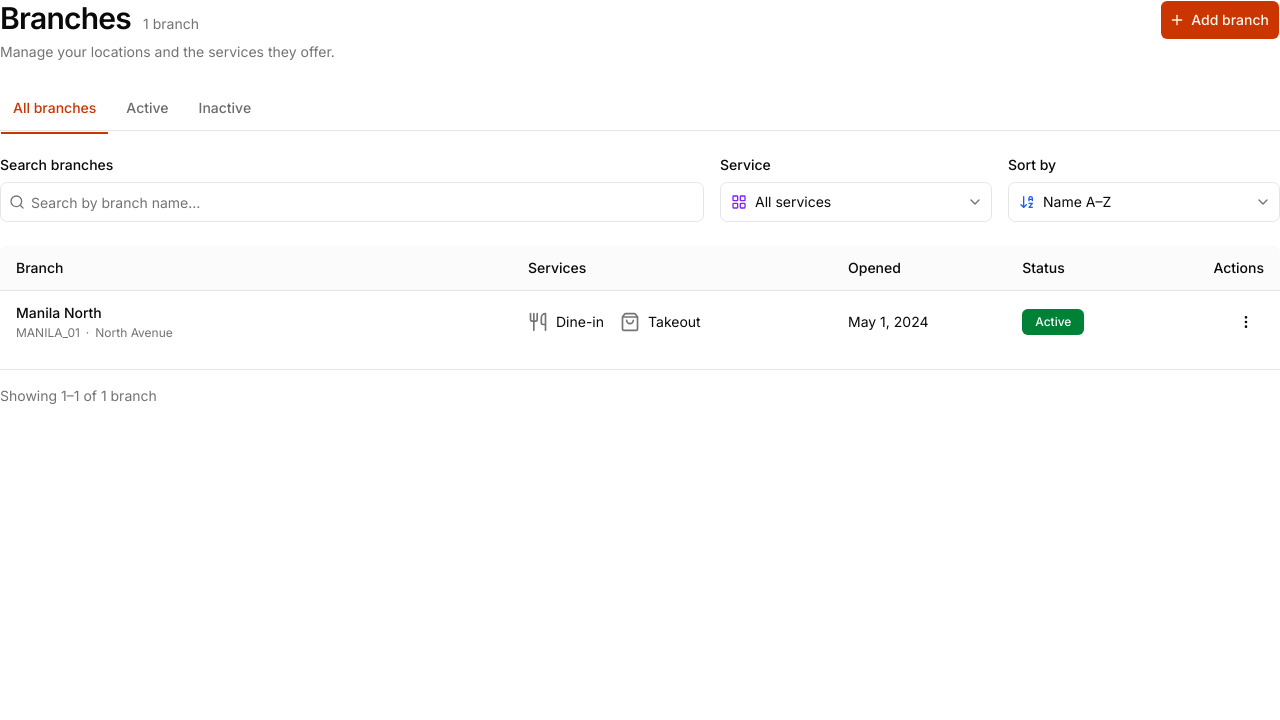
Test: branch management › shows a compact table and opens editing only from the row action
Expected: the column heading "Branch" is shown, [0,246,512,290]
Expected: the column heading "Opened" is shown, [832,246,1006,290]
Click the button named "Actions for Manila North" at [1246, 322], box [1228,304,1264,340]
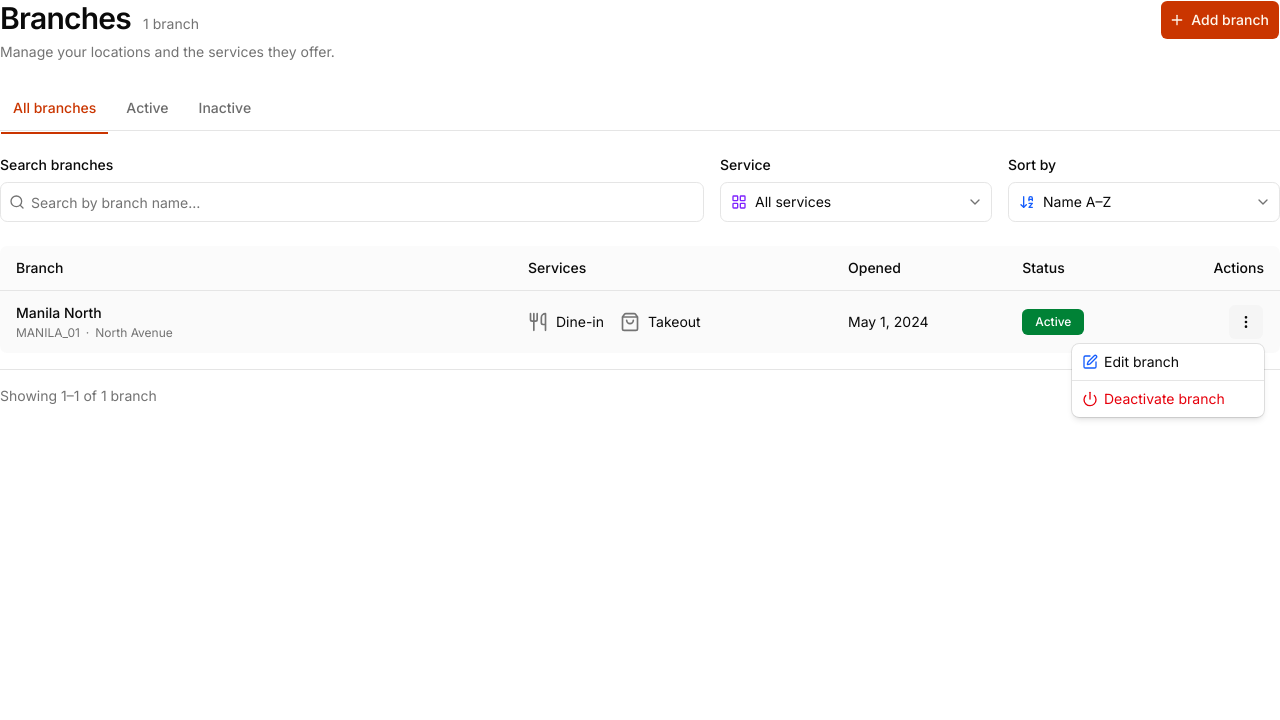
Click the menu item "Edit branch" at [1131, 362], box [1082,353,1179,370]
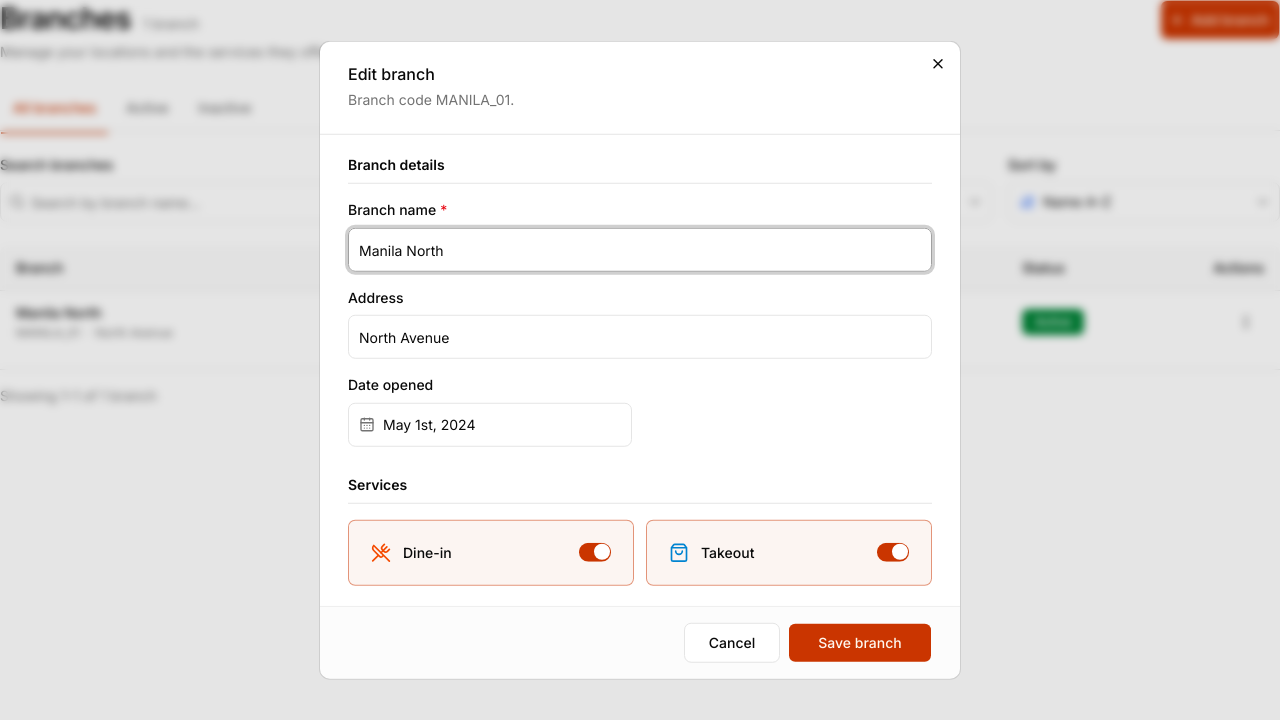
Now the field labelled "Branch name" holds "Manila North", box [348,228,932,272]
